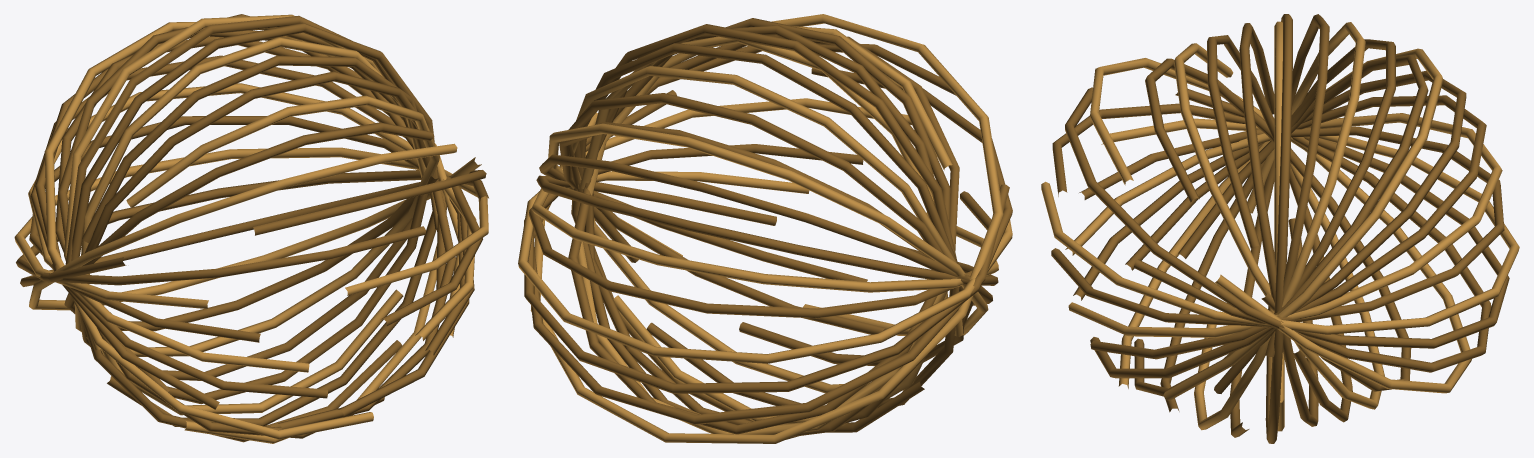
The model's file is mia-tumbleweed.glb.
3 renders of one model, left to right at view 1: azimuth 30°, elevation 25°; view 2: azimuth 150°, elevation 25°; view 3: azimuth 270°, elevation 25°, orthographic. The views are drawn at different scales.
Visible parts, largest first — view 1: Body_hay-dark, Body_hay-mid; view 2: Body_hay-dark, Body_hay-mid; view 3: Body_hay-dark, Body_hay-mid.
Part boxes in pixels (left/top/right/bottom): Body_hay-dark: left=16, top=14, right=488, bottom=442; Body_hay-mid: left=14, top=14, right=488, bottom=443; Body_hay-dark: left=524, top=18, right=1012, bottom=439; Body_hay-mid: left=518, top=14, right=1012, bottom=443; Body_hay-dark: left=1051, top=14, right=1509, bottom=443; Body_hay-mid: left=1041, top=21, right=1519, bottom=431.
Bounding box in the file's own units: 0.764 × 0.6843 × 0.7584.
